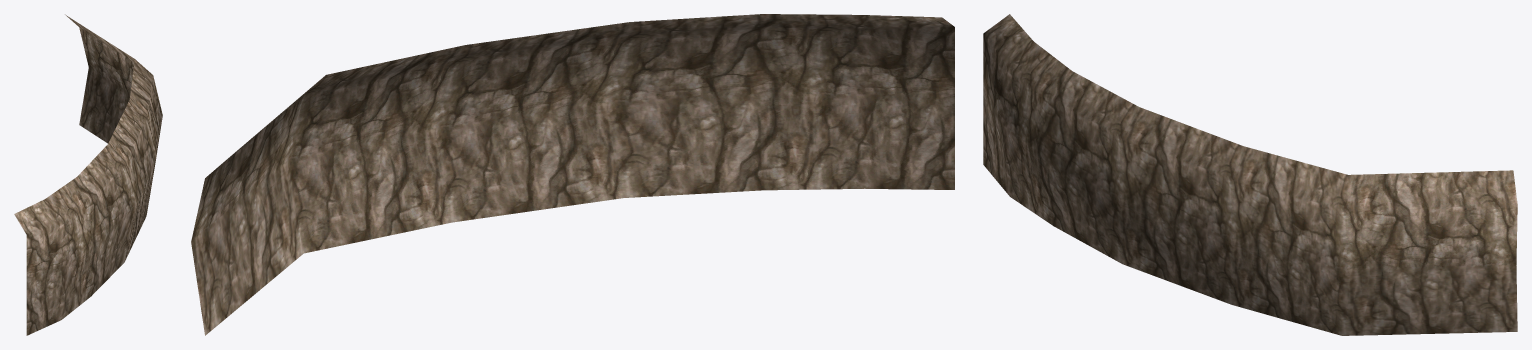
Rendered from OVERHILL_A_01_OBJECT147.fbx.
3 renders of one model, left to right at view 1: azimuth 30°, elevation 25°; view 2: azimuth 150°, elevation 25°; view 3: azimuth 270°, elevation 25°, orthographic. The views are drawn at different scales.
Parts seen in each view (by area): view 1: OVERHILL_A_01_OBJECT147; view 2: OVERHILL_A_01_OBJECT147; view 3: OVERHILL_A_01_OBJECT147.
Boxes of the visible parts, x1,y1,x2,y2 form: OVERHILL_A_01_OBJECT147: (14,14,162,335); OVERHILL_A_01_OBJECT147: (191,14,954,335); OVERHILL_A_01_OBJECT147: (983,14,1517,335).
Size of the model in its own units: 235977 by 96037 by 304495.
Materials: 1 (1 with a texture image).
